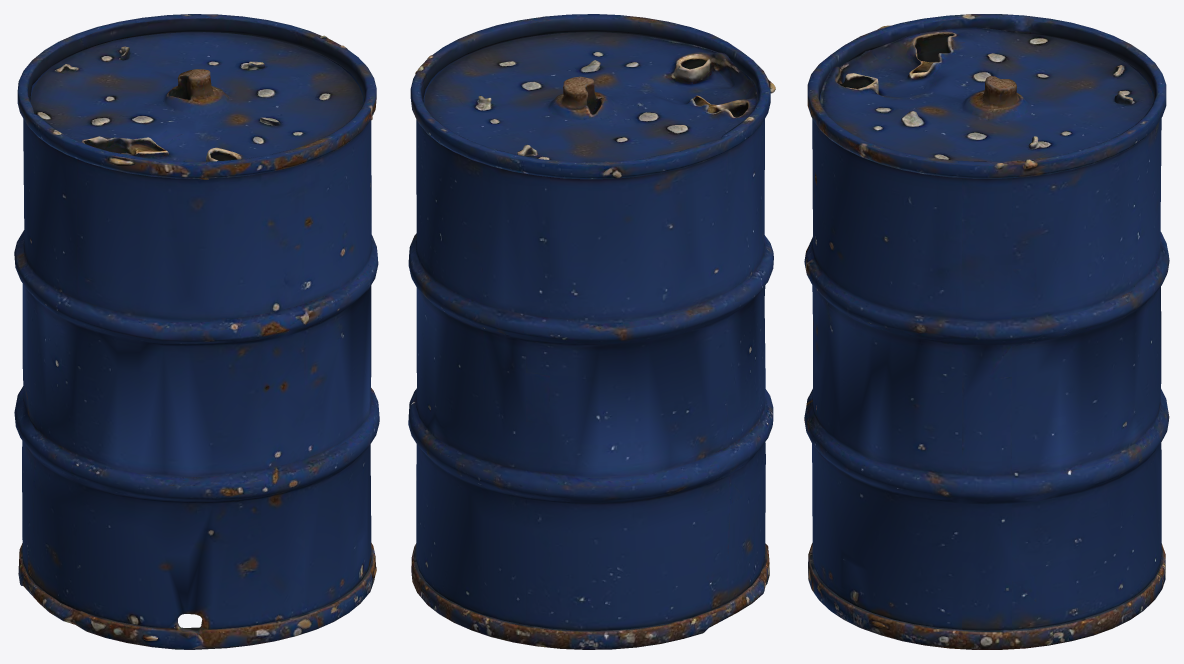
Rendered from prop_barrel.glb.
3 views of the same model, side by side, from view 1: azimuth 30°, elevation 25°; view 2: azimuth 150°, elevation 25°; view 3: azimuth 270°, elevation 25° (orthographic).
Visible parts, largest first — view 1: tripo_node_e57a478b-2a0d-4cba-8eae-ed66b517d1c8; view 2: tripo_node_e57a478b-2a0d-4cba-8eae-ed66b517d1c8; view 3: tripo_node_e57a478b-2a0d-4cba-8eae-ed66b517d1c8.
Boxes of the visible parts, <box> form: tripo_node_e57a478b-2a0d-4cba-8eae-ed66b517d1c8: <box>14,14,379,649</box>; tripo_node_e57a478b-2a0d-4cba-8eae-ed66b517d1c8: <box>408,14,775,649</box>; tripo_node_e57a478b-2a0d-4cba-8eae-ed66b517d1c8: <box>804,14,1169,649</box>.
Bounding box in the file's own units: 0.5975 × 0.9 × 0.5966.
Materials: 1 (1 with a texture image).
